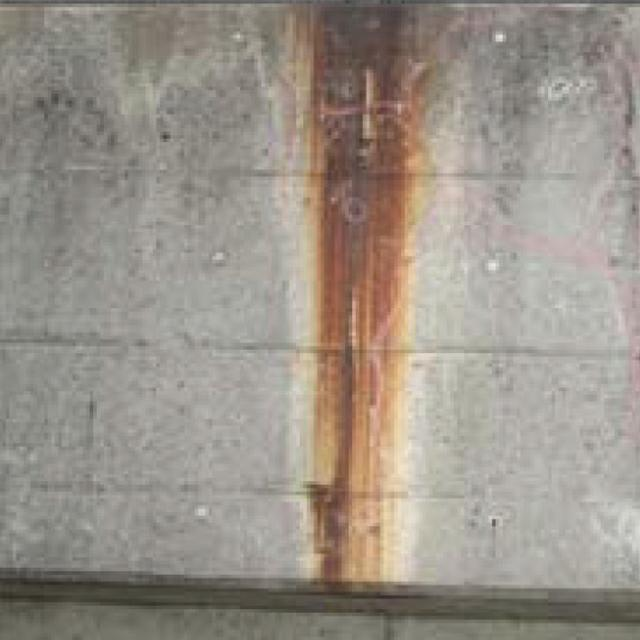leakage: (287, 17, 412, 572)
